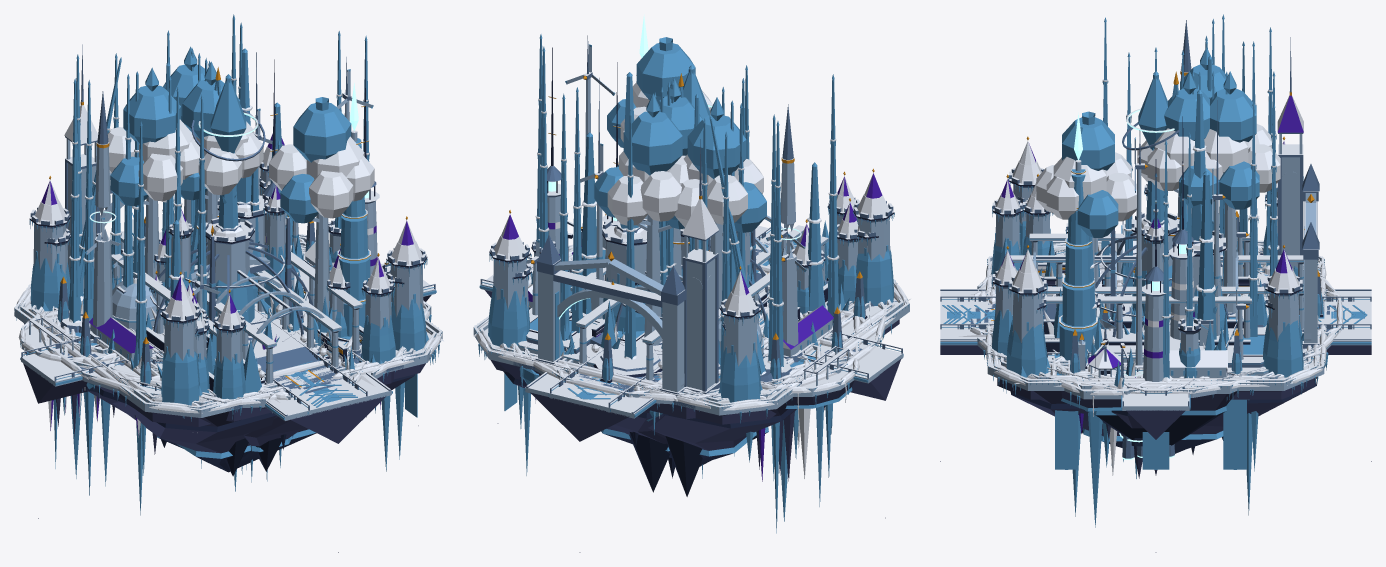
The model's file is sky_citadel_rime_structure.fbx.
3 renders of one model, left to right at view 1: azimuth 30°, elevation 25°; view 2: azimuth 150°, elevation 25°; view 3: azimuth 270°, elevation 25°, orthographic. The views are drawn at different scales.
Parts seen in each view (by area): view 1: chunk_spire_court__rime, chunk_sky_tree_grove__rime, chunk_boss_clearing__rime, chunk_aether_springs__rime, chunk_path_colonnade__rime, chunk_spire_court_b__rime, chunk_archive__rime, chunk_parade_ground__rime, chunk_side_garden__rime, chunk_path_straight__rime, chunk_garden_terrace__rime, chunk_crossroads__rime (+20 smaller); view 2: chunk_spire_court__rime, chunk_garden_terrace__rime, chunk_sky_tree_grove__rime, chunk_archive__rime, chunk_boss_clearing__rime, chunk_path_colonnade__rime, chunk_parade_ground__rime, chunk_spire_court_b__rime, chunk_aether_springs__rime, chunk_armory__rime, chunk_entry__rime, chunk_path_long_span__rime (+13 smaller); view 3: chunk_spire_court__rime, chunk_garden_terrace__rime, chunk_aether_springs__rime, chunk_boss_clearing__rime, chunk_sky_tree_grove__rime, chunk_archive__rime, chunk_armory__rime, chunk_spire_court_b__rime, chunk_side_garden__rime, chunk_parade_ground__rime, chunk_crossroads__rime, chunk_path_colonnade__rime (+15 smaller).
Part boxes in pixels (left/top/right/bottom): chunk_spire_court__rime: left=14, top=22, right=442, bottom=472; chunk_sky_tree_grove__rime: left=107, top=67, right=403, bottom=474; chunk_boss_clearing__rime: left=36, top=30, right=406, bottom=443; chunk_aether_springs__rime: left=20, top=83, right=418, bottom=552; chunk_path_colonnade__rime: left=39, top=78, right=375, bottom=478; chunk_spire_court_b__rime: left=52, top=57, right=403, bottom=471; chunk_archive__rime: left=64, top=44, right=400, bottom=421; chunk_parade_ground__rime: left=20, top=14, right=443, bottom=426; chunk_side_garden__rime: left=152, top=61, right=356, bottom=399; chunk_path_straight__rime: left=163, top=94, right=333, bottom=399; chunk_garden_terrace__rime: left=18, top=46, right=431, bottom=495; chunk_crossroads__rime: left=20, top=81, right=436, bottom=402; chunk_spire_court__rime: left=473, top=87, right=909, bottom=465; chunk_garden_terrace__rime: left=562, top=93, right=859, bottom=506; chunk_sky_tree_grove__rime: left=511, top=37, right=854, bottom=418; chunk_archive__rime: left=515, top=139, right=852, bottom=435; chunk_boss_clearing__rime: left=510, top=110, right=887, bottom=415; chunk_path_colonnade__rime: left=553, top=121, right=814, bottom=521; chunk_parade_ground__rime: left=473, top=93, right=910, bottom=424; chunk_spire_court_b__rime: left=513, top=35, right=871, bottom=492; chunk_aether_springs__rime: left=495, top=14, right=903, bottom=552; chunk_armory__rime: left=528, top=132, right=869, bottom=496; chunk_entry__rime: left=573, top=103, right=827, bottom=403; chunk_path_long_span__rime: left=518, top=74, right=867, bottom=477; chunk_spire_court__rime: left=986, top=41, right=1371, bottom=453; chunk_garden_terrace__rime: left=985, top=71, right=1326, bottom=527; chunk_aether_springs__rime: left=940, top=112, right=1371, bottom=552; chunk_boss_clearing__rime: left=940, top=71, right=1343, bottom=399; chunk_sky_tree_grove__rime: left=992, top=47, right=1319, bottom=368; chunk_archive__rime: left=940, top=37, right=1371, bottom=363; chunk_armory__rime: left=940, top=27, right=1371, bottom=445; chunk_spire_court_b__rime: left=987, top=130, right=1324, bottom=439; chunk_side_garden__rime: left=951, top=71, right=1219, bottom=330; chunk_parade_ground__rime: left=946, top=103, right=1369, bottom=399; chunk_crossroads__rime: left=941, top=78, right=1371, bottom=439; chunk_path_colonnade__rime: left=946, top=14, right=1371, bottom=336.
Bounding box in the file's own units: 256 × 256 × 256.
